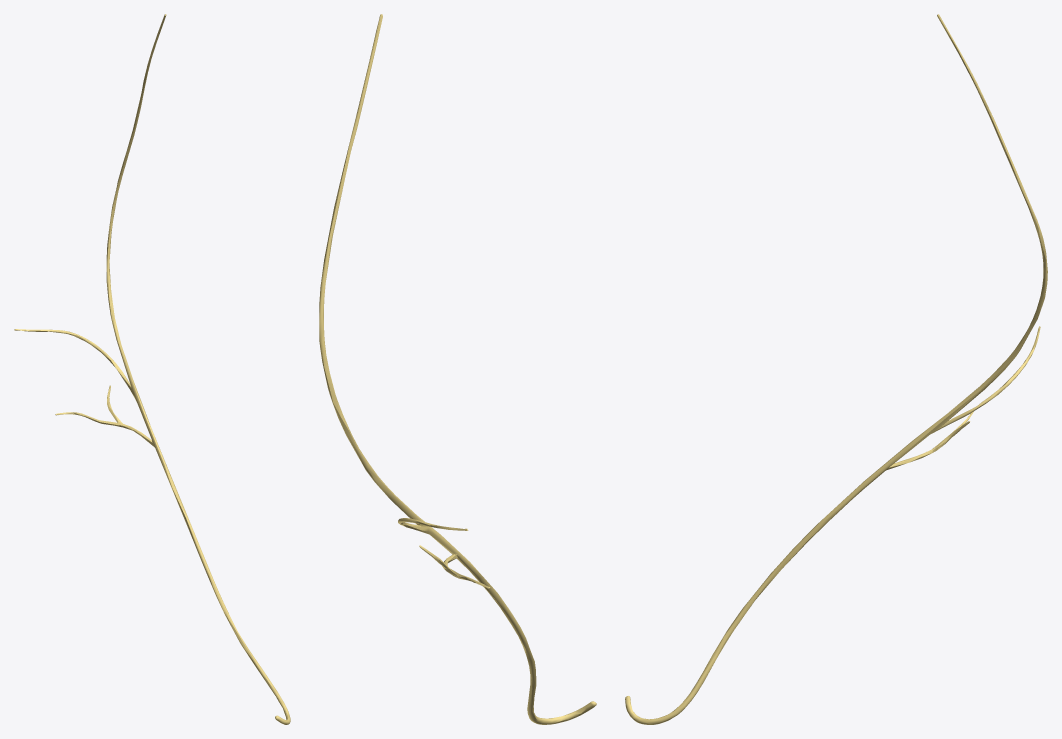
The model's file is fma65389_fj4221.glb.
3 renders of one model, left to right at view 1: azimuth 30°, elevation 25°; view 2: azimuth 150°, elevation 25°; view 3: azimuth 270°, elevation 25°, orthographic. The views are drawn at different scales.
Parts seen in each view (by area): view 1: FMA65389_FJ4221; view 2: FMA65389_FJ4221; view 3: FMA65389_FJ4221.
Part boxes in pixels (box(x1,y1,x2,y2)): FMA65389_FJ4221: box(14, 14, 290, 724); FMA65389_FJ4221: box(319, 14, 596, 724); FMA65389_FJ4221: box(625, 14, 1047, 724).
Bounding box in the file's own units: 0.0293 × 0.1533 × 0.0825.
